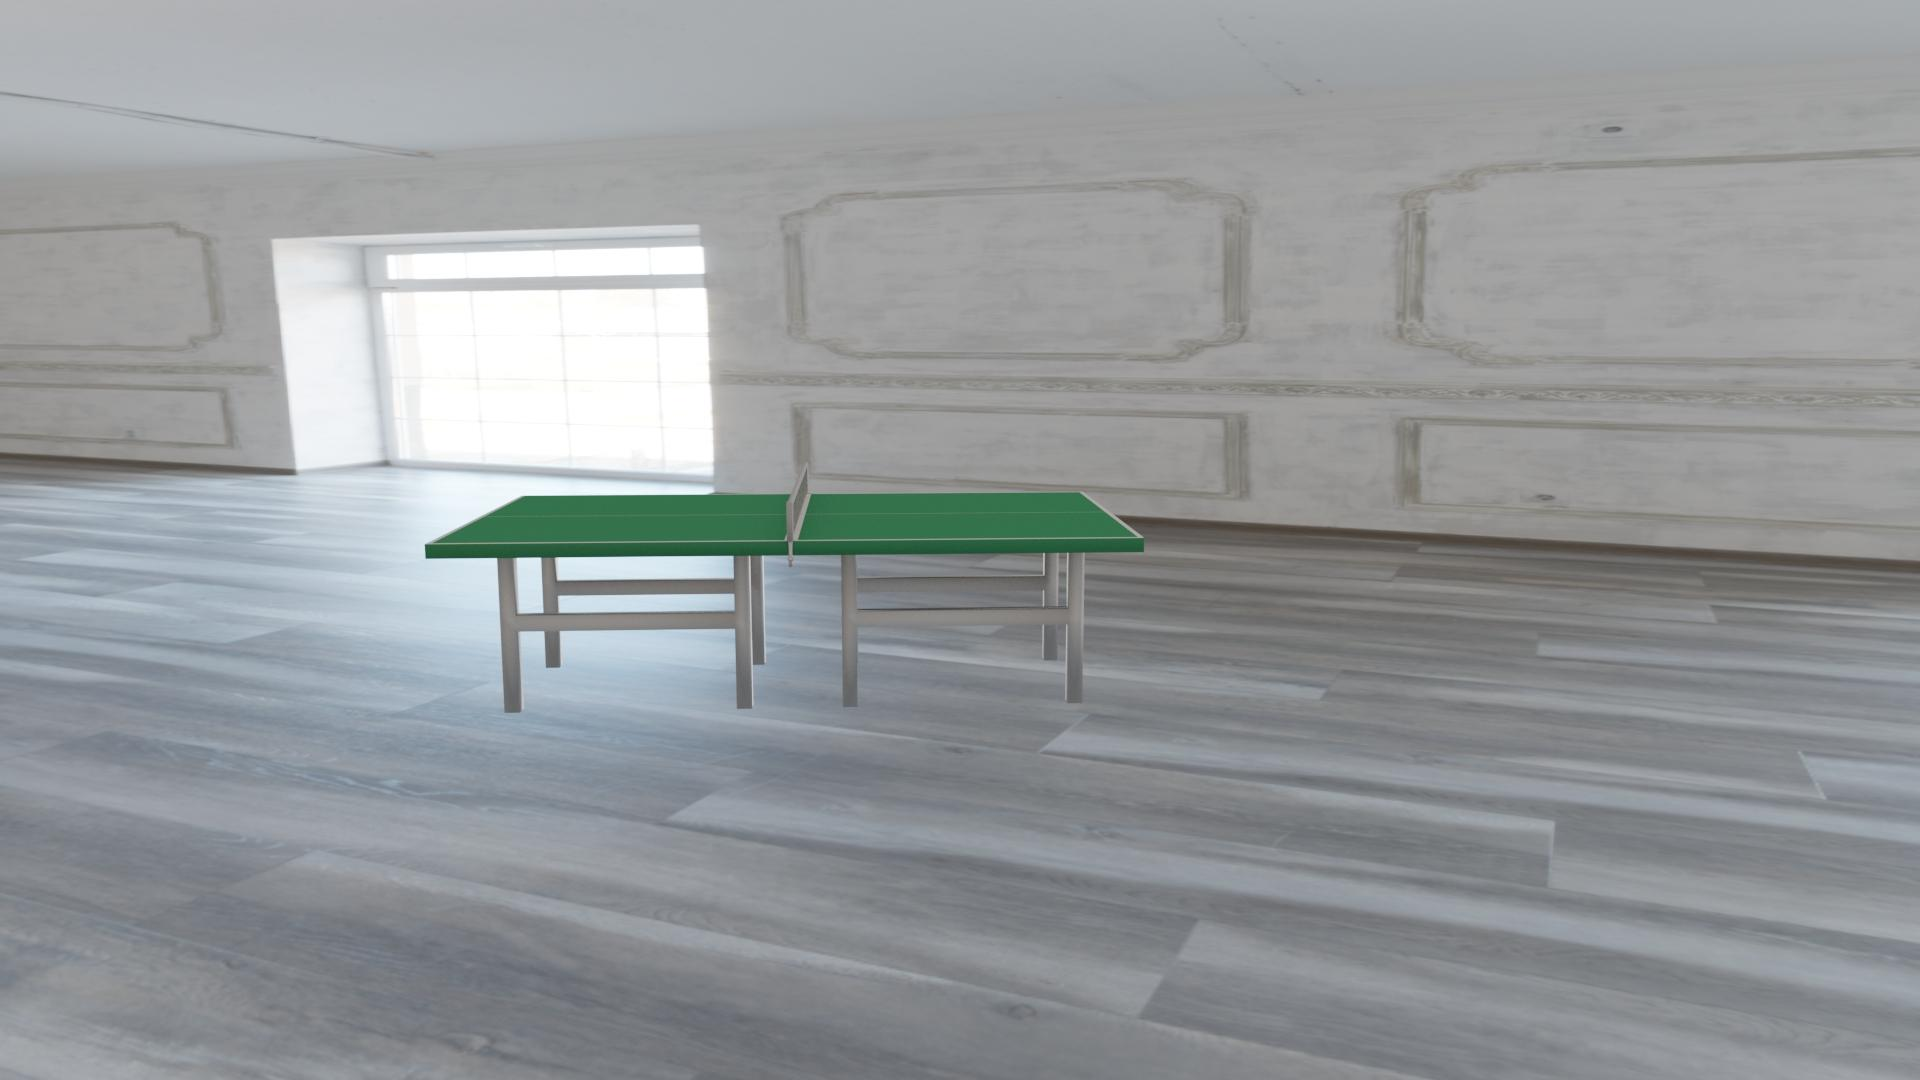table: (431, 492, 1138, 543)
